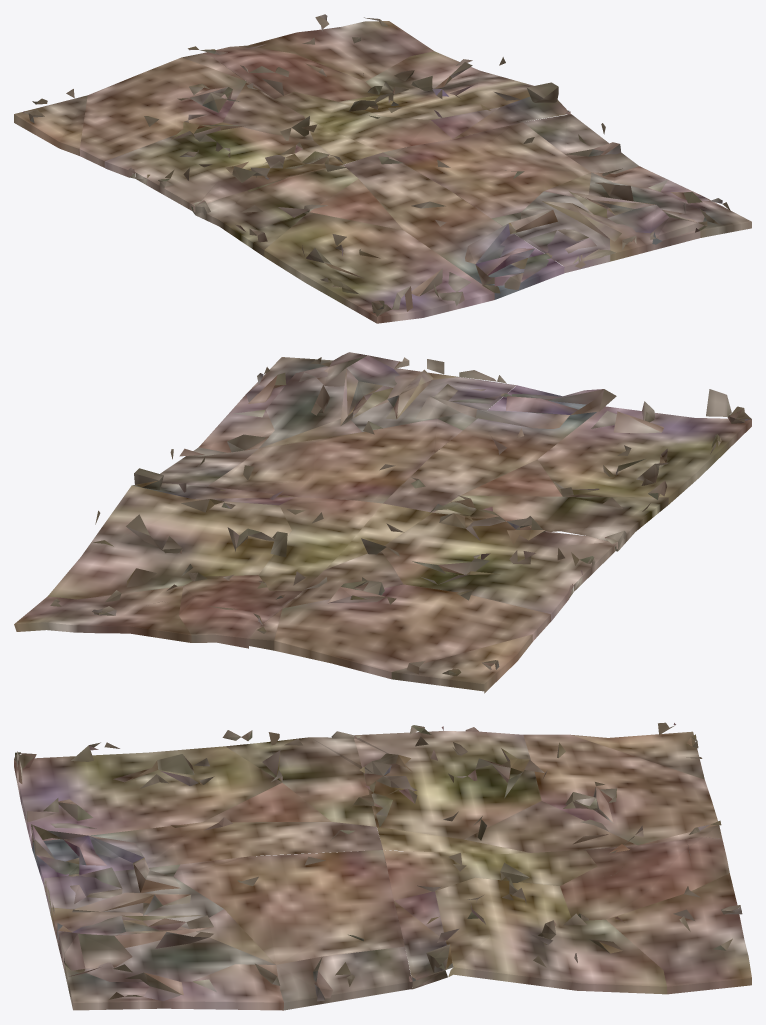
The picture shows the model from 3 angles, top to bottom: view 1: azimuth 30°, elevation 25°; view 2: azimuth 150°, elevation 25°; view 3: azimuth 270°, elevation 25°; orthographic projection. The views are drawn at different scales.
Visible parts, largest first — view 1: Mesh_0; view 2: Mesh_0; view 3: Mesh_0.
Boxes of the visible parts, left/top/right/bottom form: Mesh_0: left=14, top=14, right=751, bottom=323; Mesh_0: left=14, top=352, right=751, bottom=693; Mesh_0: left=14, top=722, right=751, bottom=1010.
Size of the model in its own units: 532 by 66.35 by 659.
1 material, 1 textured.
